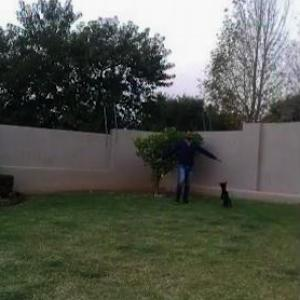land: (139, 113, 214, 214)
